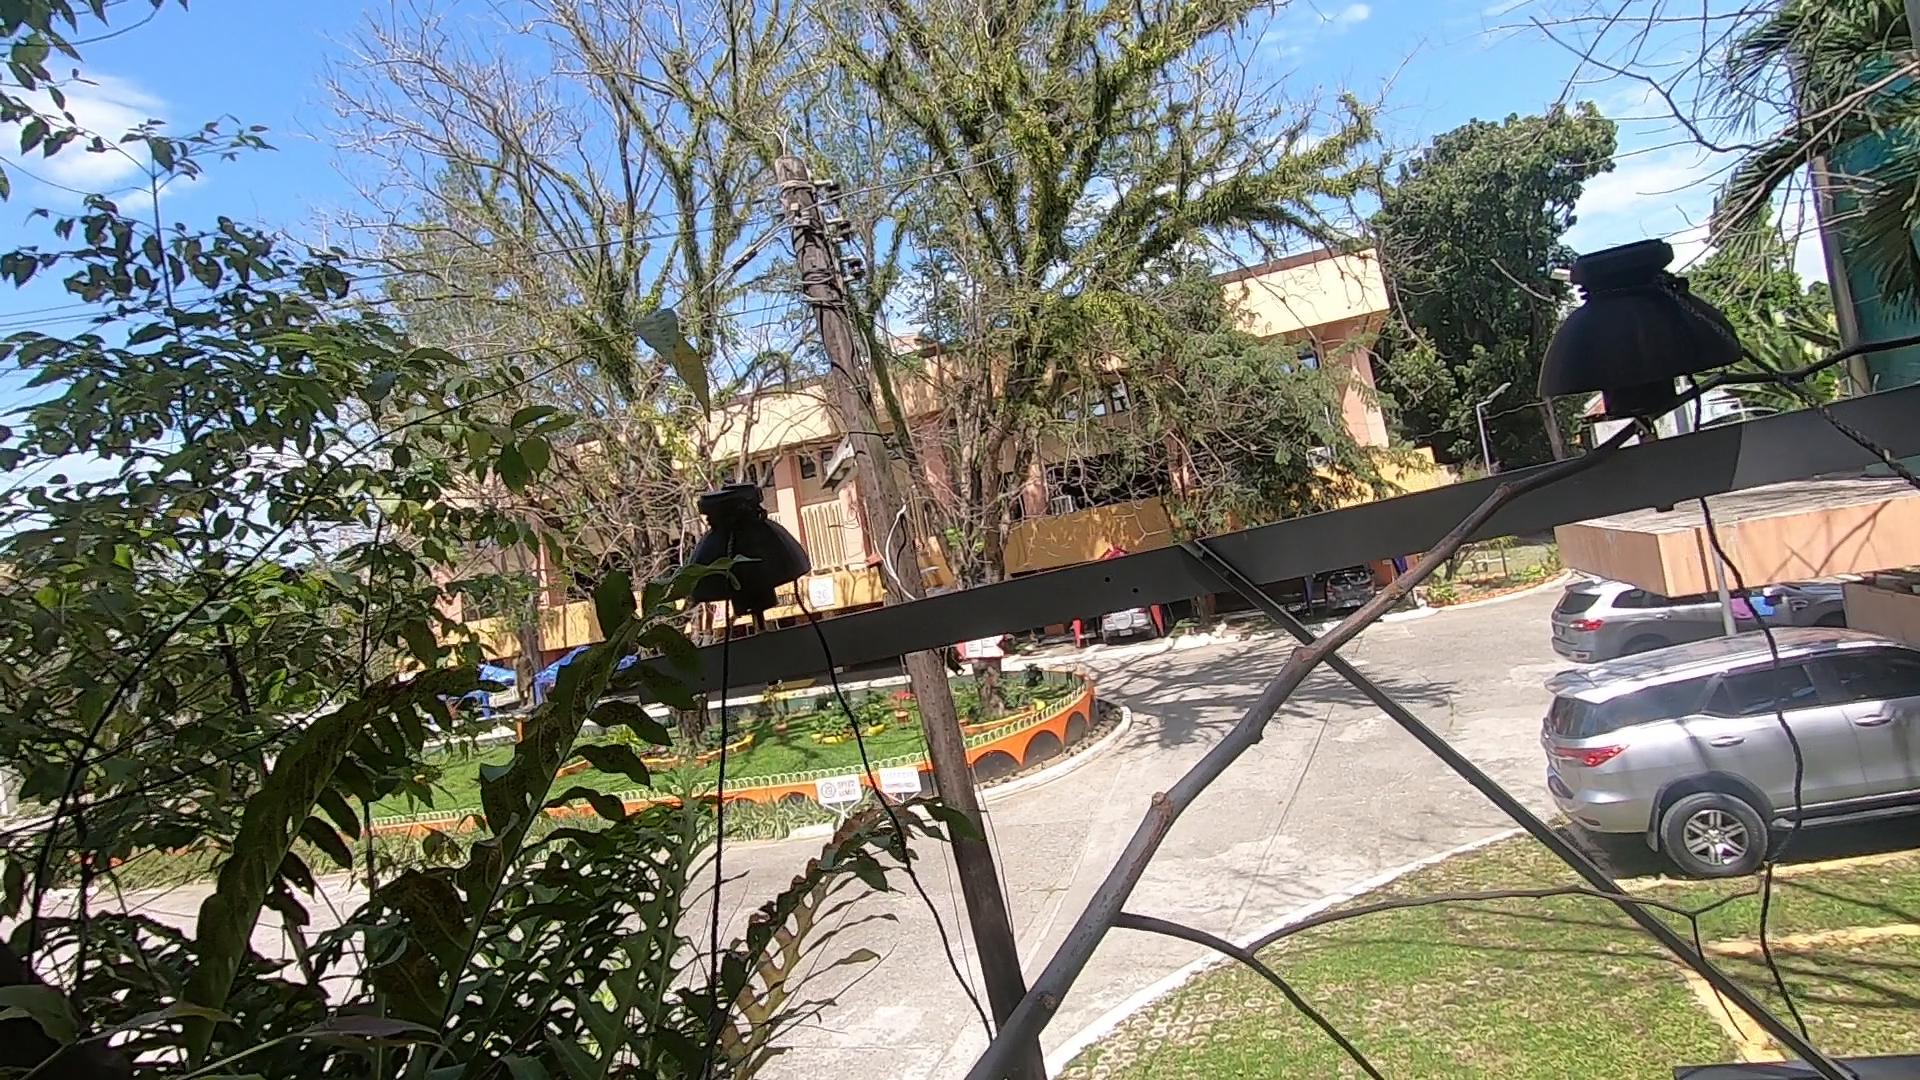tree branch: (840, 294, 1917, 1046)
